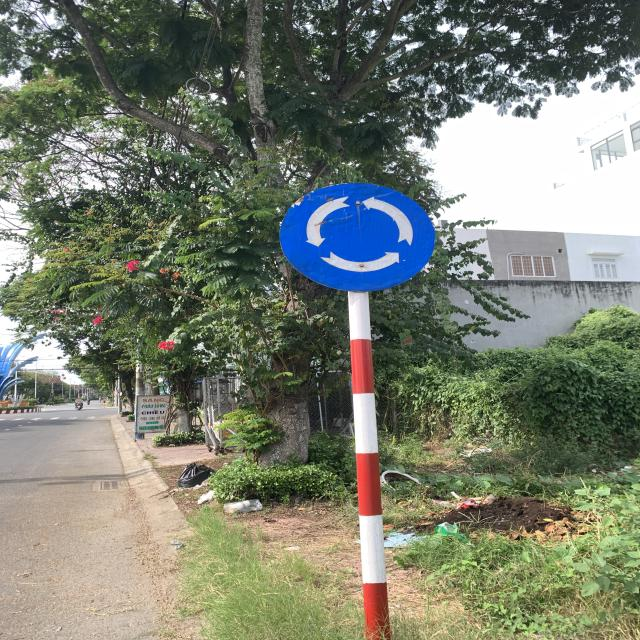Xe_Bus: (279, 182, 439, 292)
